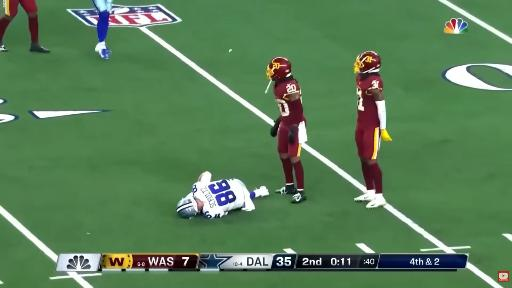Helmet: (354, 51, 381, 73), (267, 57, 291, 80), (177, 198, 197, 218)
Jersey: (192, 179, 253, 218), (274, 78, 305, 126), (356, 74, 382, 127)
Player: (267, 57, 307, 203), (354, 51, 391, 208), (177, 172, 268, 218), (0, 0, 49, 53), (93, 0, 112, 59)
